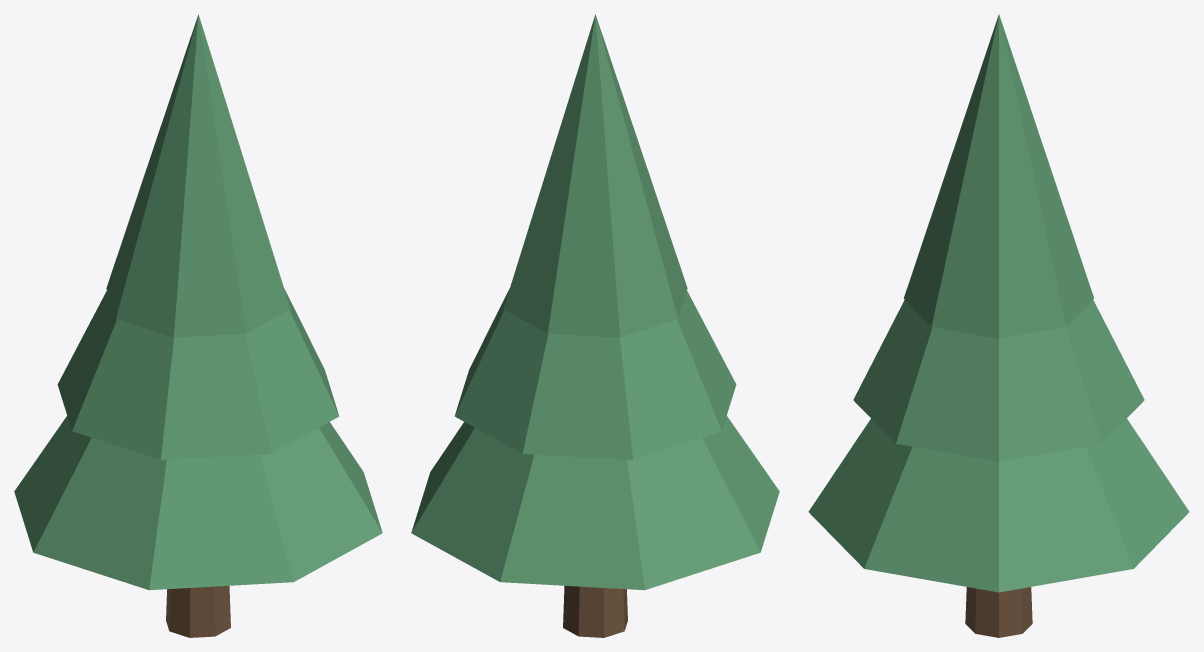
3 views of the same model, side by side, from view 1: azimuth 30°, elevation 25°; view 2: azimuth 150°, elevation 25°; view 3: azimuth 270°, elevation 25° (orthographic).
Bounding box in the file's own units: 3.4 × 6 × 3.4.
